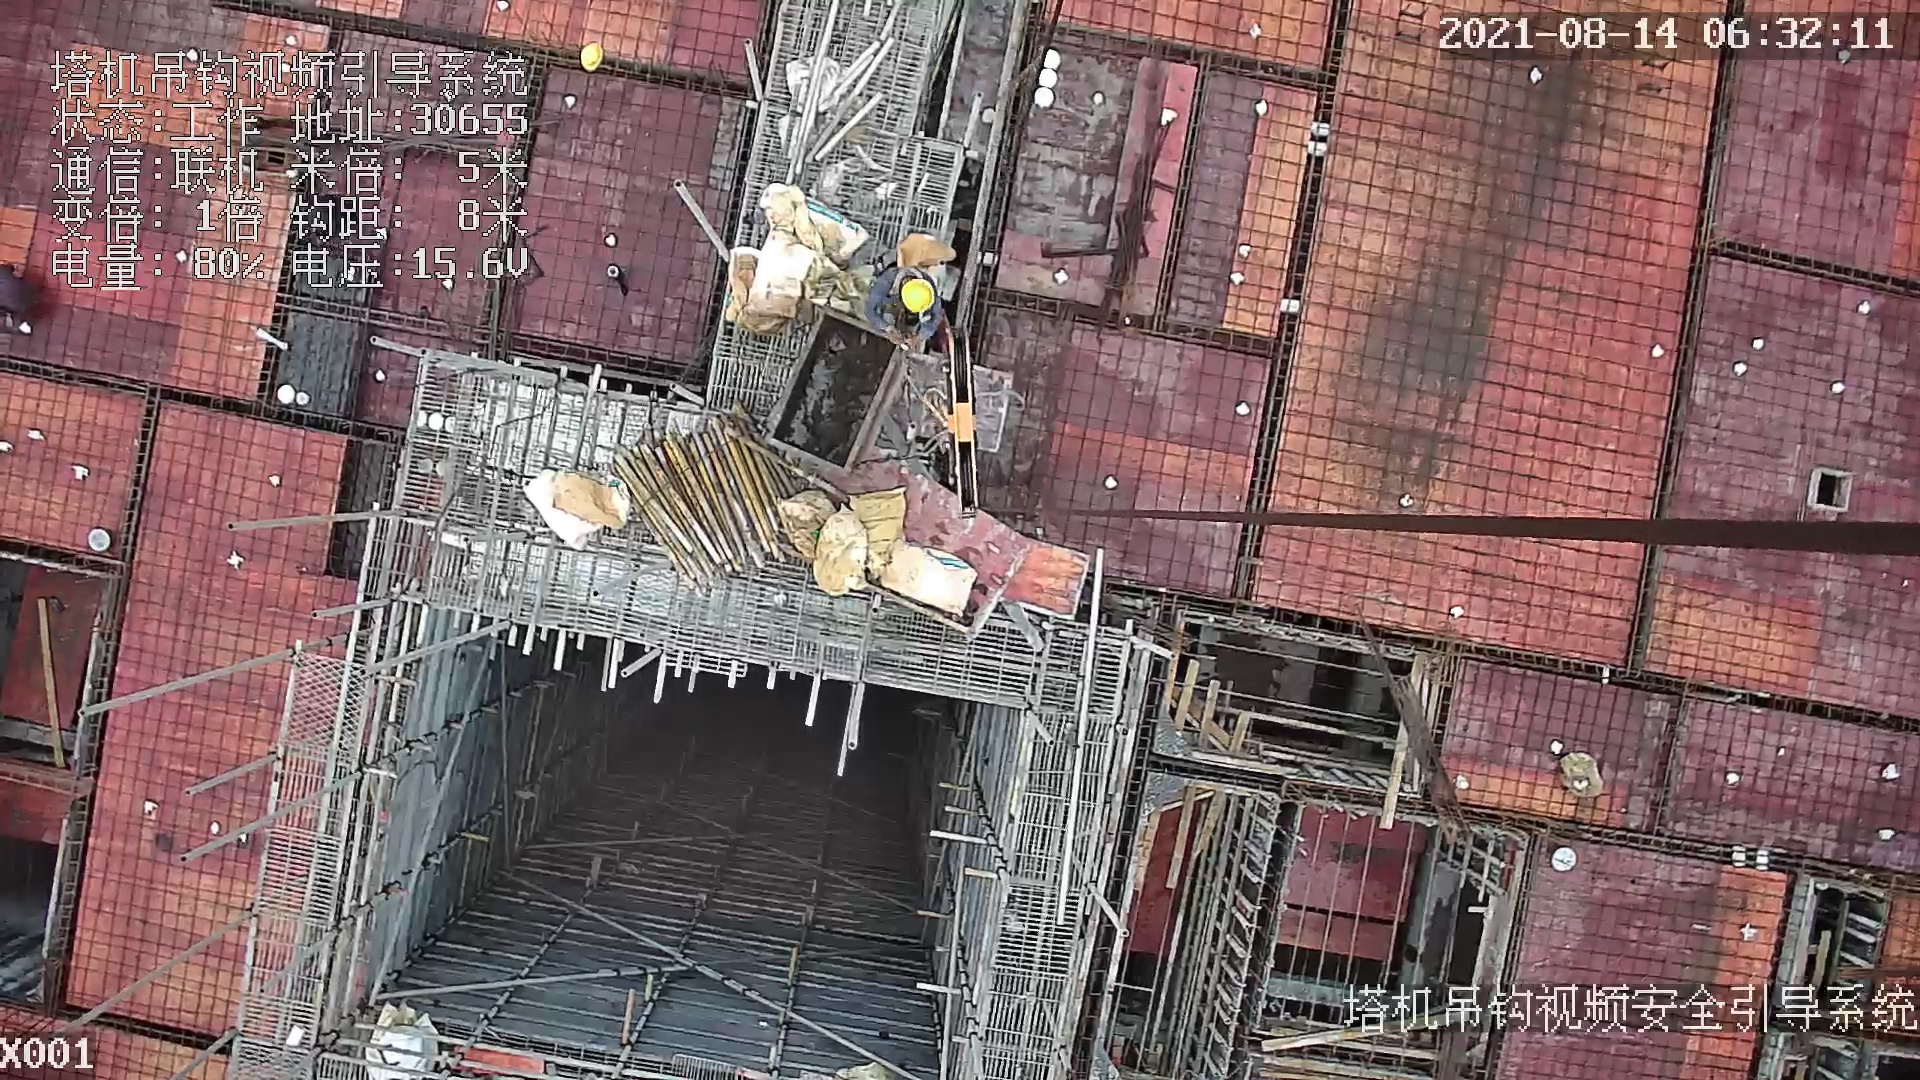helmet: (896, 277, 940, 315), (577, 46, 606, 72)
hook: (927, 331, 986, 519)
hopper: (779, 314, 901, 480)
person: (864, 268, 951, 347)
scaffold: (618, 409, 796, 599)
